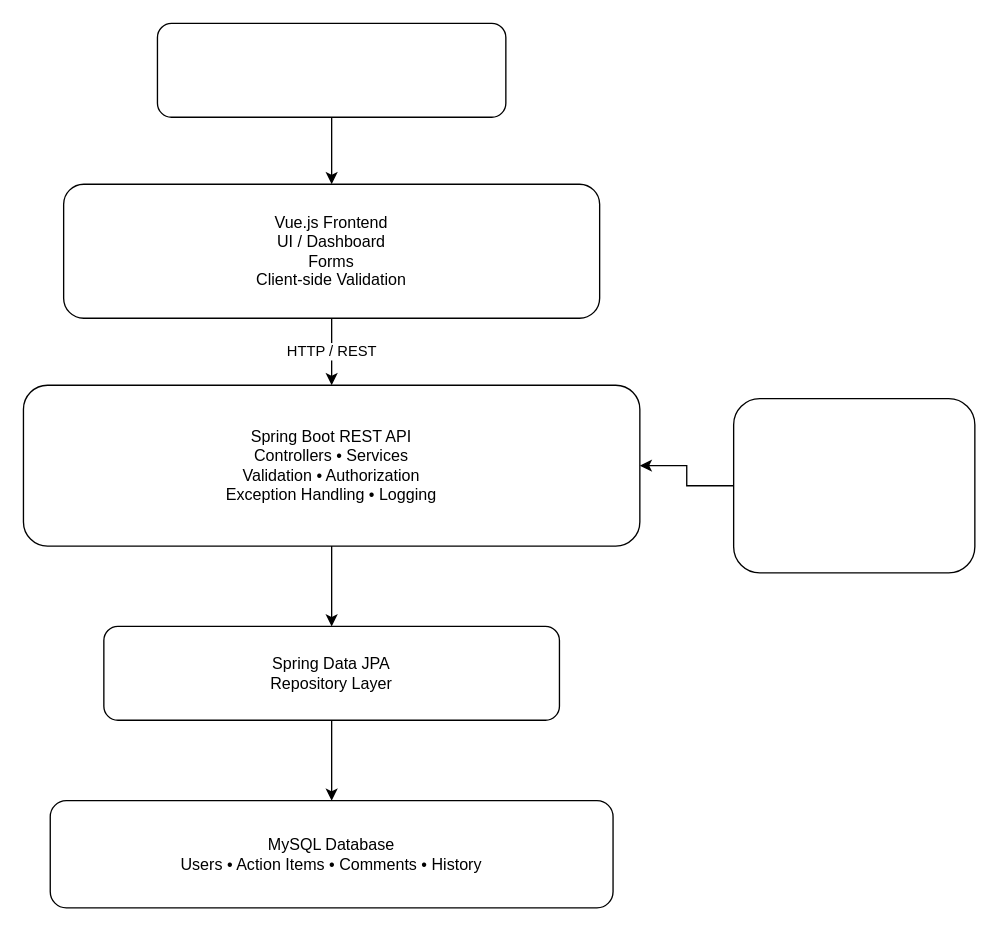
Image size: 998x931. Some labels were removed from this diagram. Each missing label, with the centre of its shape:
Cross-cutting Security Authorization Validation Error Handling Logging: pixel 853 485
USER Manager / Team Member: pixel 331 69
